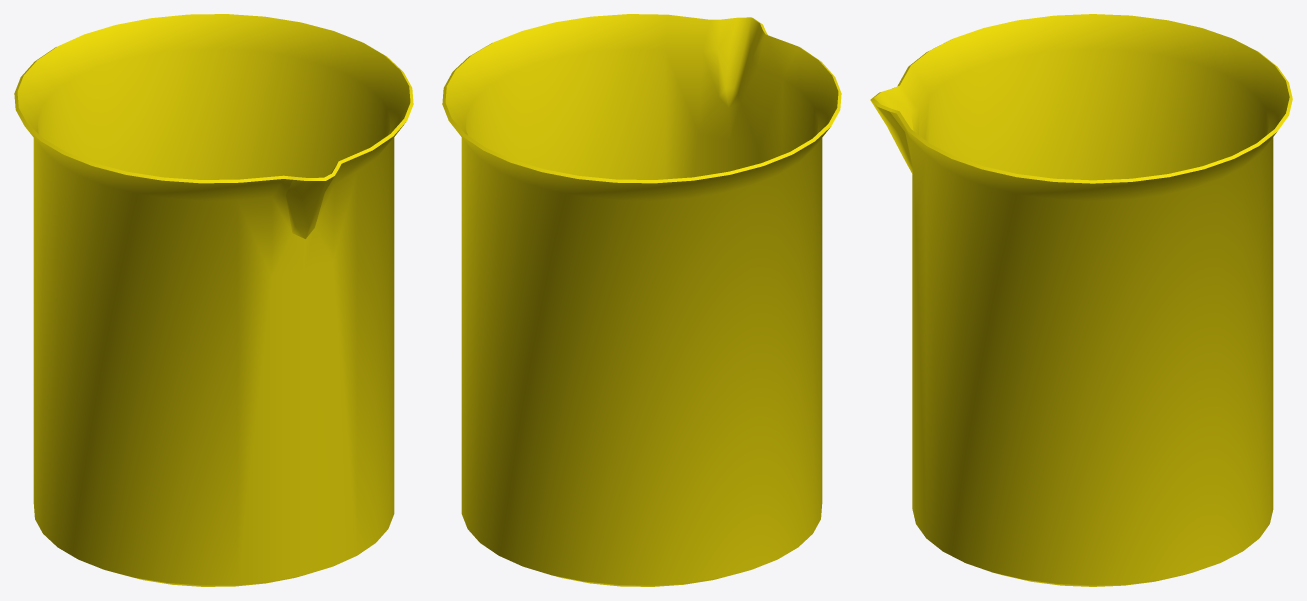
The model's file is SM_Beaker.FBX.
3 renders of one model, left to right at view 1: azimuth 30°, elevation 25°; view 2: azimuth 150°, elevation 25°; view 3: azimuth 270°, elevation 25°, orthographic.
Parts seen in each view (by area): view 1: Beaker; view 2: Beaker; view 3: Beaker.
Part boxes in pixels (bbox=[...]): Beaker: bbox=[14, 14, 413, 586]; Beaker: bbox=[442, 14, 841, 586]; Beaker: bbox=[870, 14, 1292, 586].
Size of the model in its own units: 141 by 165 by 149.
